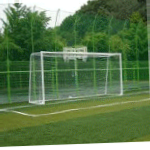goals: (26, 50, 125, 106)
